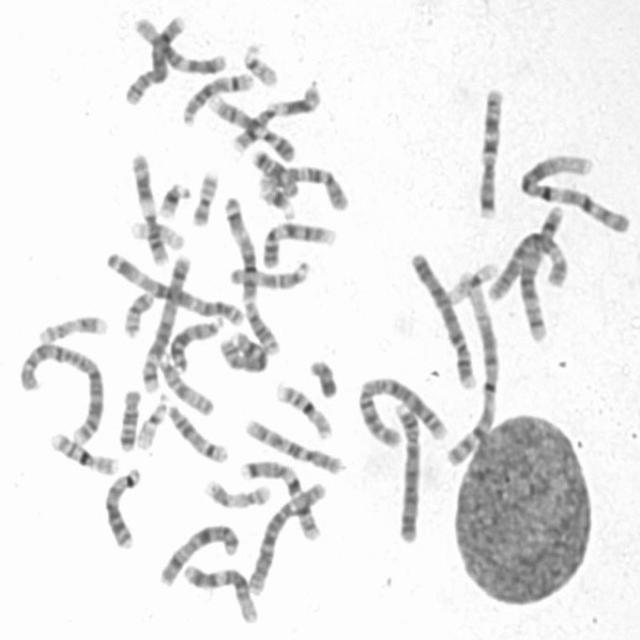A1: (442, 267, 500, 468), (516, 150, 633, 236)
A2: (16, 338, 106, 448), (354, 372, 450, 449)
A3: (103, 248, 246, 326), (220, 192, 282, 354)
B4: (406, 248, 478, 392), (392, 401, 422, 544)
B5: (138, 251, 192, 394), (515, 202, 568, 344)
C10: (243, 414, 344, 476), (252, 156, 350, 212)
C11: (229, 83, 322, 154), (128, 150, 169, 268)
C12: (131, 13, 227, 75), (181, 560, 259, 626)
C6: (244, 478, 328, 596), (484, 226, 572, 304)
C7: (236, 456, 322, 543), (475, 84, 505, 220)
C8: (122, 13, 187, 107), (217, 329, 269, 374)
C9: (206, 93, 296, 162), (258, 218, 339, 270)
D13: (100, 465, 142, 551), (167, 314, 225, 374)
D14: (180, 71, 256, 128), (164, 400, 229, 464)
D15: (155, 356, 214, 416), (226, 258, 311, 292)
E16: (274, 380, 333, 440), (47, 429, 119, 476)
E17: (201, 477, 273, 511), (36, 312, 109, 344)
E18: (250, 146, 300, 198), (116, 386, 142, 452)
F19: (444, 258, 499, 304), (128, 218, 186, 252)
F20: (188, 168, 220, 228), (120, 288, 157, 338)
G21: (256, 175, 298, 222), (156, 180, 191, 220)
G22: (133, 392, 169, 451), (239, 41, 281, 88)
X: (156, 520, 240, 589)
Y: (307, 354, 340, 398)
